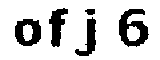6: (109, 6, 152, 50)
f: (47, 5, 70, 47)
j: (74, 5, 100, 57)
o: (12, 16, 44, 49)
